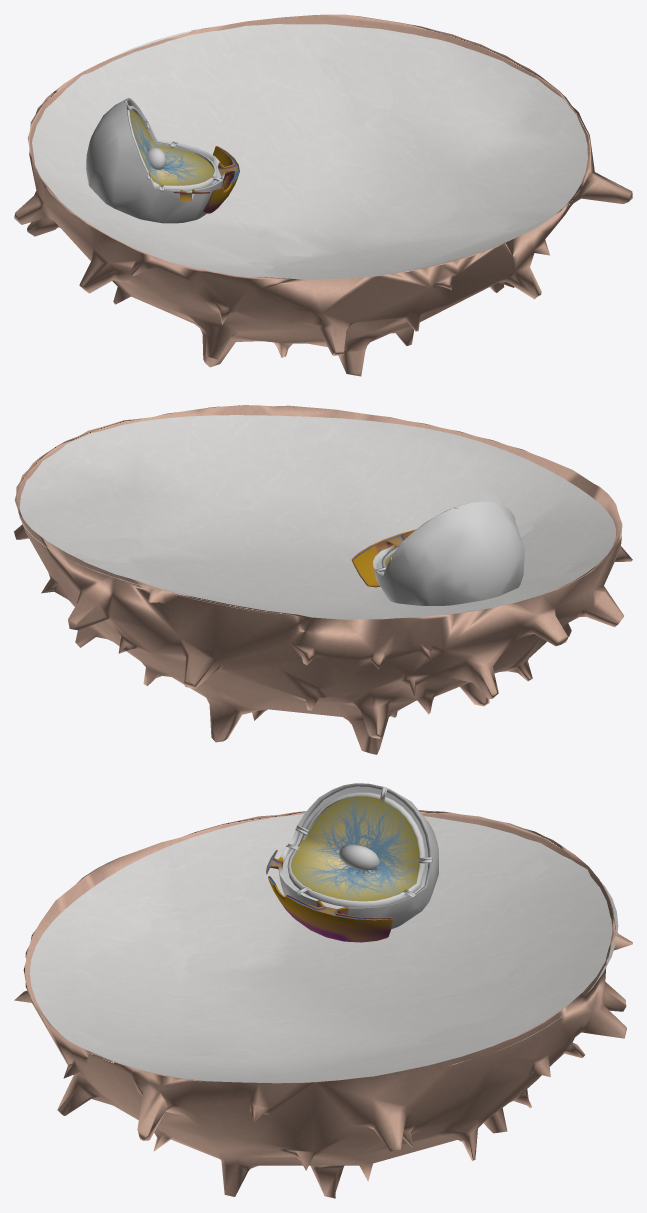
The model's file is cytoplasm.fbx.
3 views of the same model, one above another, from view 1: azimuth 30°, elevation 25°; view 2: azimuth 150°, elevation 25°; view 3: azimuth 270°, elevation 25° (orthographic). The views are drawn at different scales.
Parts seen in each view (by area): view 1: Cytoplasm_00, PlasmaMembrane, ReticulumCisternae_00; view 2: Cytoplasm_00, PlasmaMembrane, ReticulumCisternae_00; view 3: Cytoplasm_00, PlasmaMembrane, ReticulumCisternae_00, IncorporationOf_type00_05.
Boxes of the visible parts, x1,y1,x2,y2 form: Cytoplasm_00: (32,24,587,279); PlasmaMembrane: (14,14,632,376); ReticulumCisternae_00: (86,98,239,223); Cytoplasm_00: (19,415,615,619); PlasmaMembrane: (14,405,632,754); ReticulumCisternae_00: (351,501,524,605); Cytoplasm_00: (29,814,618,1083); PlasmaMembrane: (14,810,632,1198); ReticulumCisternae_00: (266,783,438,942); IncorporationOf_type00_05: (338,844,379,870).
Bounding box in the file's own units: 122 × 57.25 × 113.
